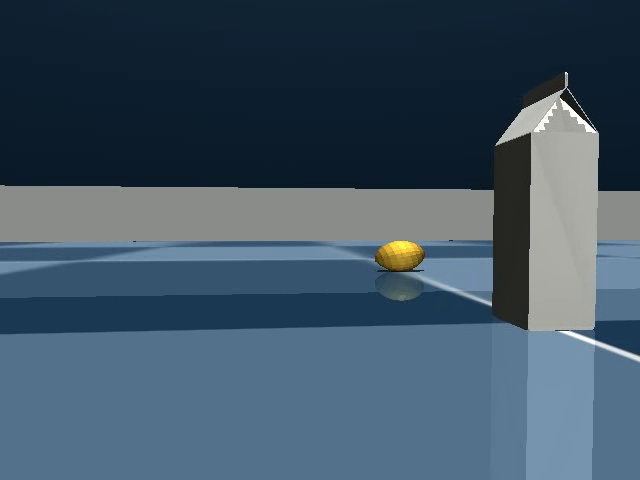lemon: (369, 235, 430, 278)
milk: (485, 68, 602, 340)
